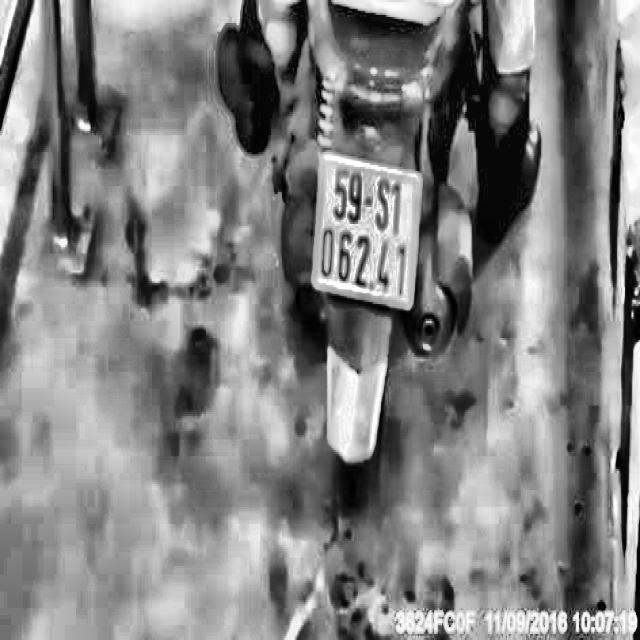plate: (305, 146, 429, 318)
